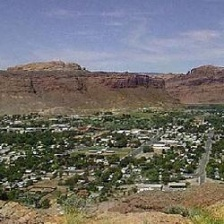neutral: (2, 36, 222, 224)
